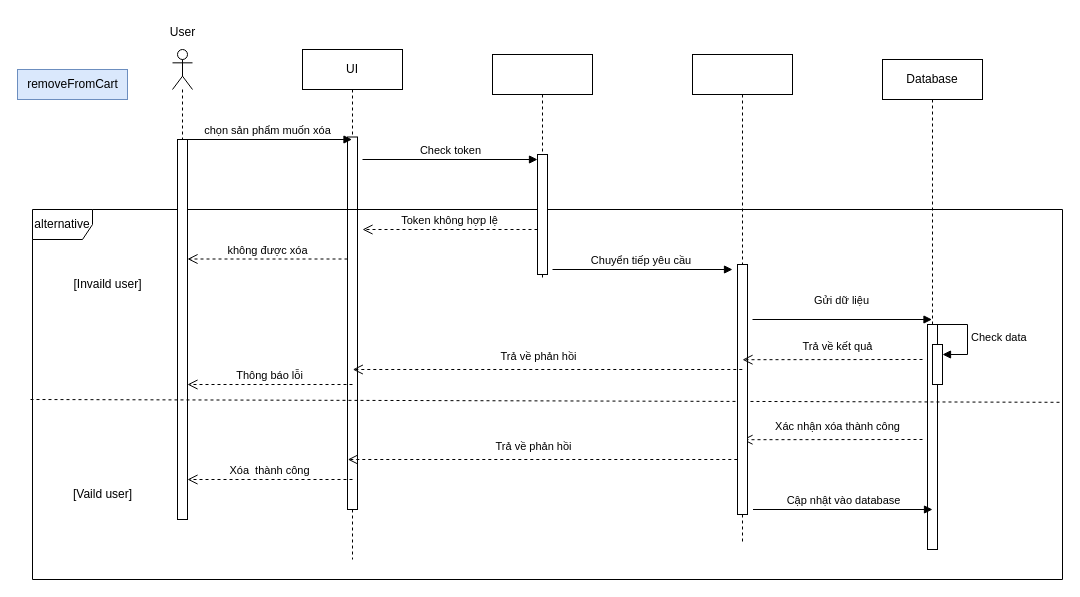
Image size: 1080x597. Some labels were removed from this diagram. The shapes that lost their labels are listed below. From the top down, each one's centre as x and y in pixels, then its label:
pixel 542 167: AuthMiddleware
pixel 742 299: CartController
